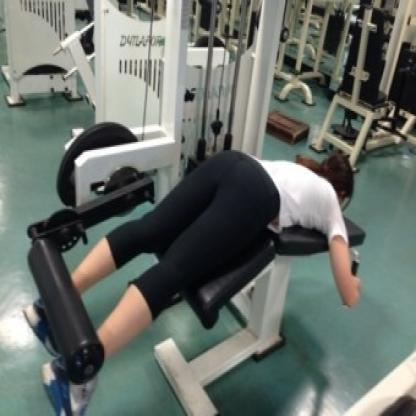reg curl machine: (23, 0, 368, 416)
